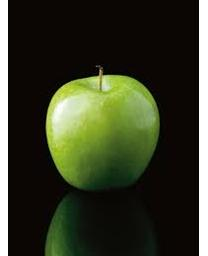apple: (44, 66, 160, 191)
